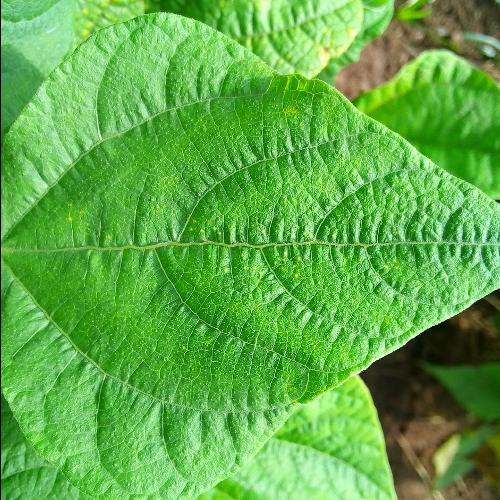hawar: (0, 26, 468, 476)
